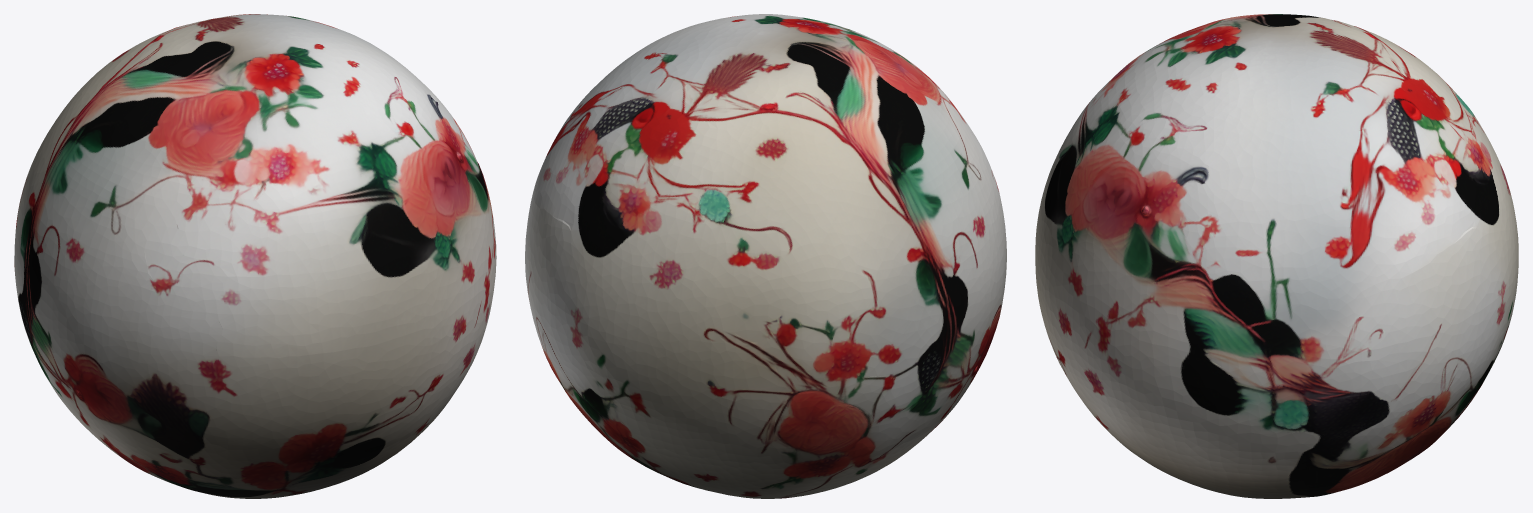
File: porcelain-hand-painted-plate-japanese.jpeg.glb
3 renders of one model, left to right at view 1: azimuth 30°, elevation 25°; view 2: azimuth 150°, elevation 25°; view 3: azimuth 270°, elevation 25°, orthographic.
Parts seen in each view (by area): view 1: world; view 2: world; view 3: world.
Boxes of the visible parts, box(x1,y1,x2,y2) form: world: box(14, 14, 496, 498); world: box(525, 14, 1006, 498); world: box(1035, 14, 1518, 498).
Size of the model in its own units: 0.9988 by 0.9995 by 0.9998.
Materials: 1 (1 with a texture image).
